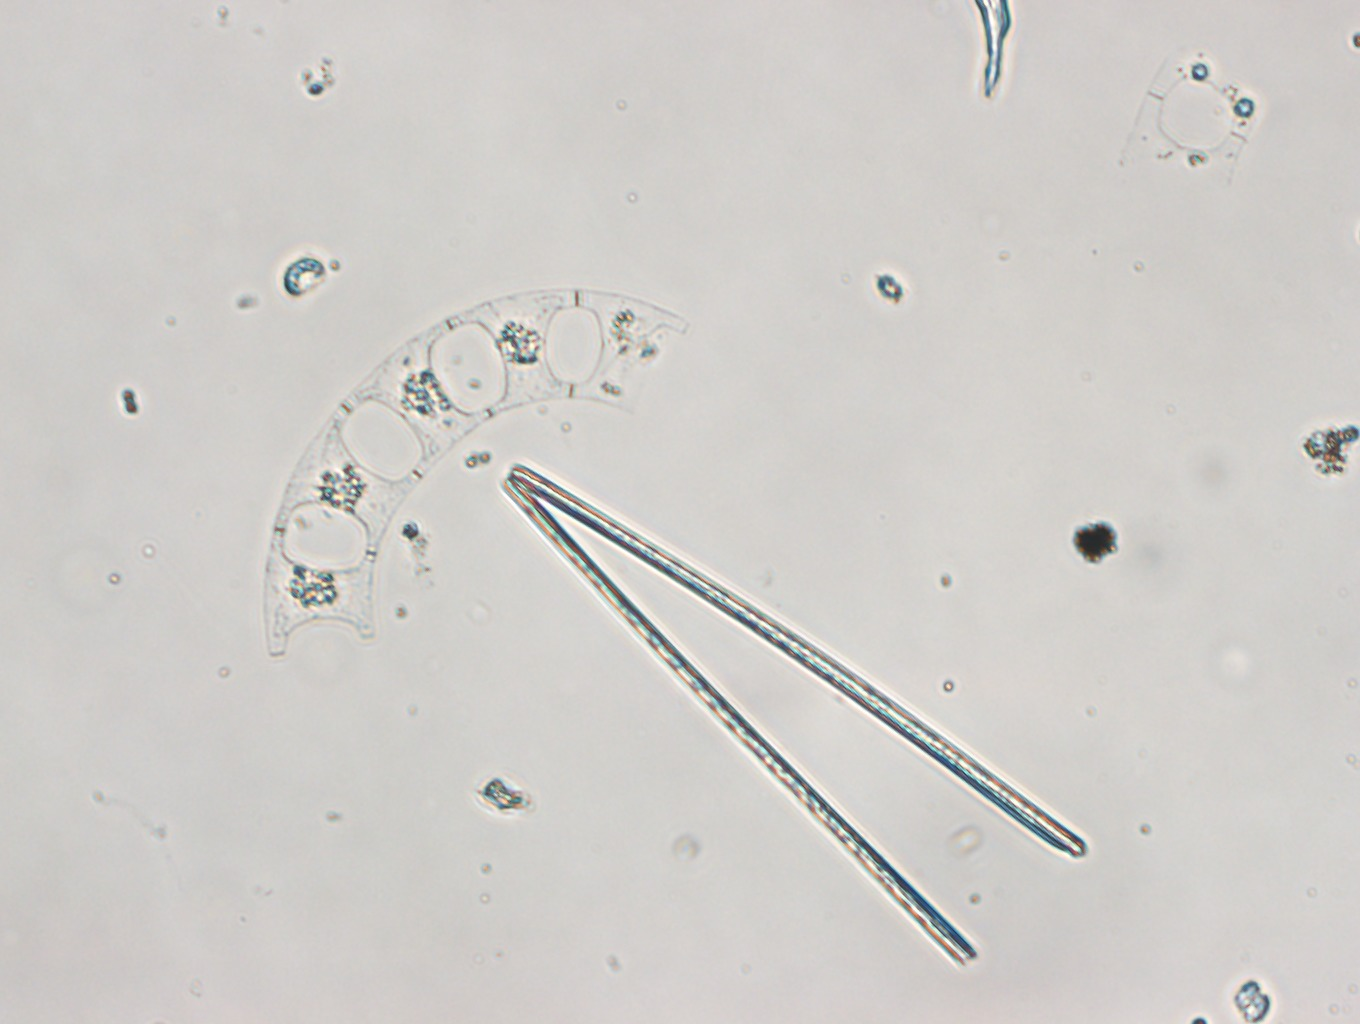eucampia: (226, 282, 682, 664)
thalassionema frauenfeldii: (500, 455, 1080, 972)
